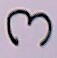sum: (1, 1, 57, 56)
